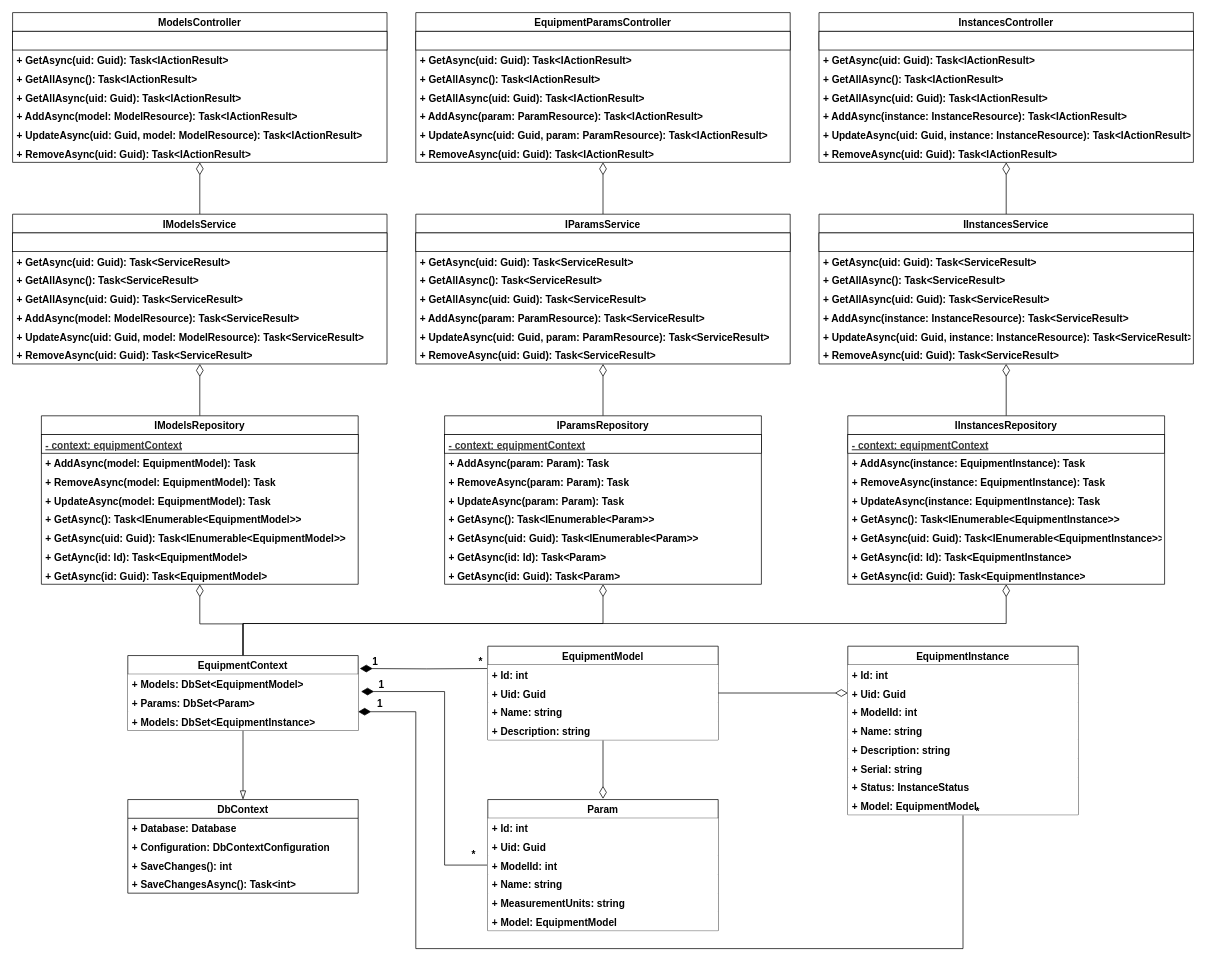
Image size: 1206x973. Some labels were removed from this diagram. The shapes that lost their labels are listed below. From the top down, each one's centre as x and y in pixels, then its label:
At (x=199, y=40): "- modelsService: IModelsService".
At (x=602, y=40): "- paramsService: IParamsService".
At (x=1005, y=40): "- instancesService: IInstancesService".
At (x=199, y=242): "- modelsRepository: IModelsRepository".
At (x=602, y=242): "- paramsRepository: IParamsRepository".
At (x=1005, y=242): "- instancesRepository: IInstancesRepository".
